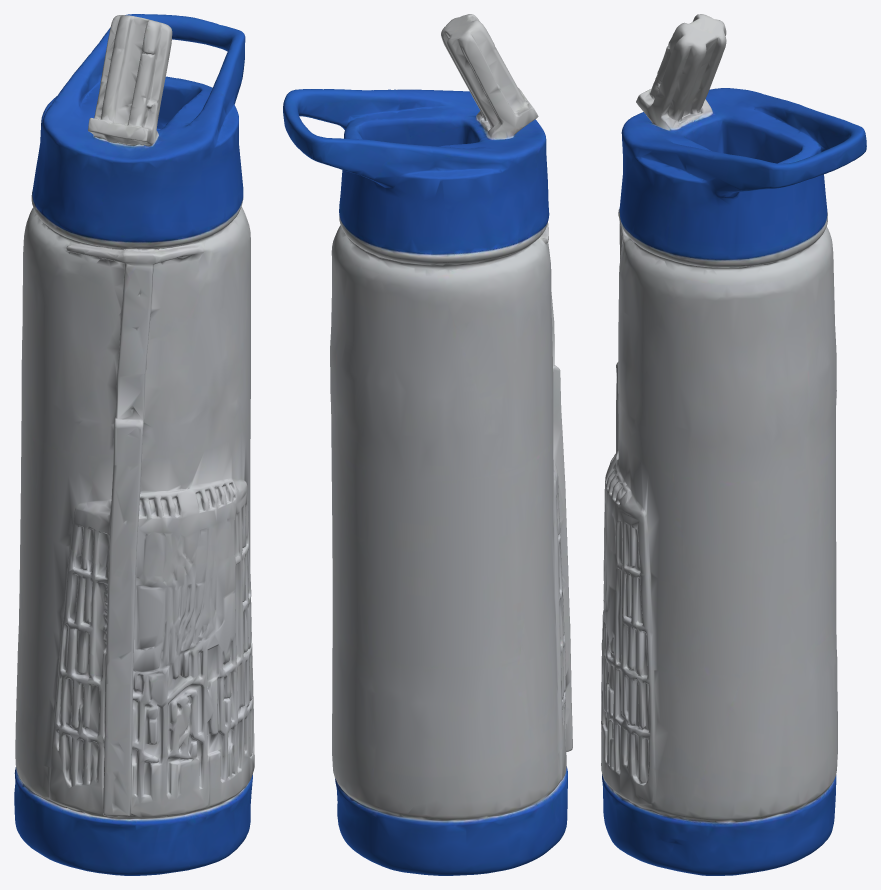
3 views of the same model, side by side, from view 1: azimuth 30°, elevation 25°; view 2: azimuth 150°, elevation 25°; view 3: azimuth 270°, elevation 25° (orthographic). The views are drawn at different scales.
Visible parts, largest first — view 1: tripo_node_b3ea5a9c-8872-46f5-a8a2-5326ebb3b158; view 2: tripo_node_b3ea5a9c-8872-46f5-a8a2-5326ebb3b158; view 3: tripo_node_b3ea5a9c-8872-46f5-a8a2-5326ebb3b158.
Boxes of the visible parts, bbox=[...] form: tripo_node_b3ea5a9c-8872-46f5-a8a2-5326ebb3b158: bbox=[14, 14, 254, 875]; tripo_node_b3ea5a9c-8872-46f5-a8a2-5326ebb3b158: bbox=[283, 14, 572, 875]; tripo_node_b3ea5a9c-8872-46f5-a8a2-5326ebb3b158: bbox=[601, 14, 866, 875].
Size of the model in its own units: 0.3047 by 1 by 0.2973.
Materials: 1 (1 with a texture image).
